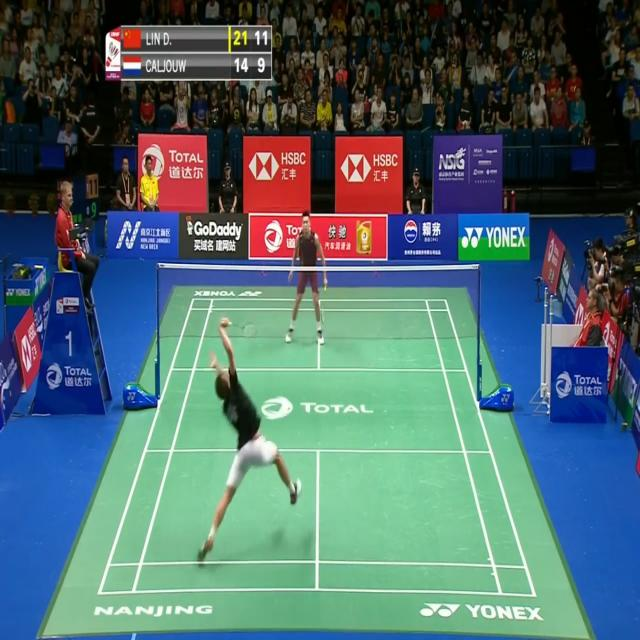Player1: (196, 310, 306, 564)
Player2: (284, 205, 332, 348)
